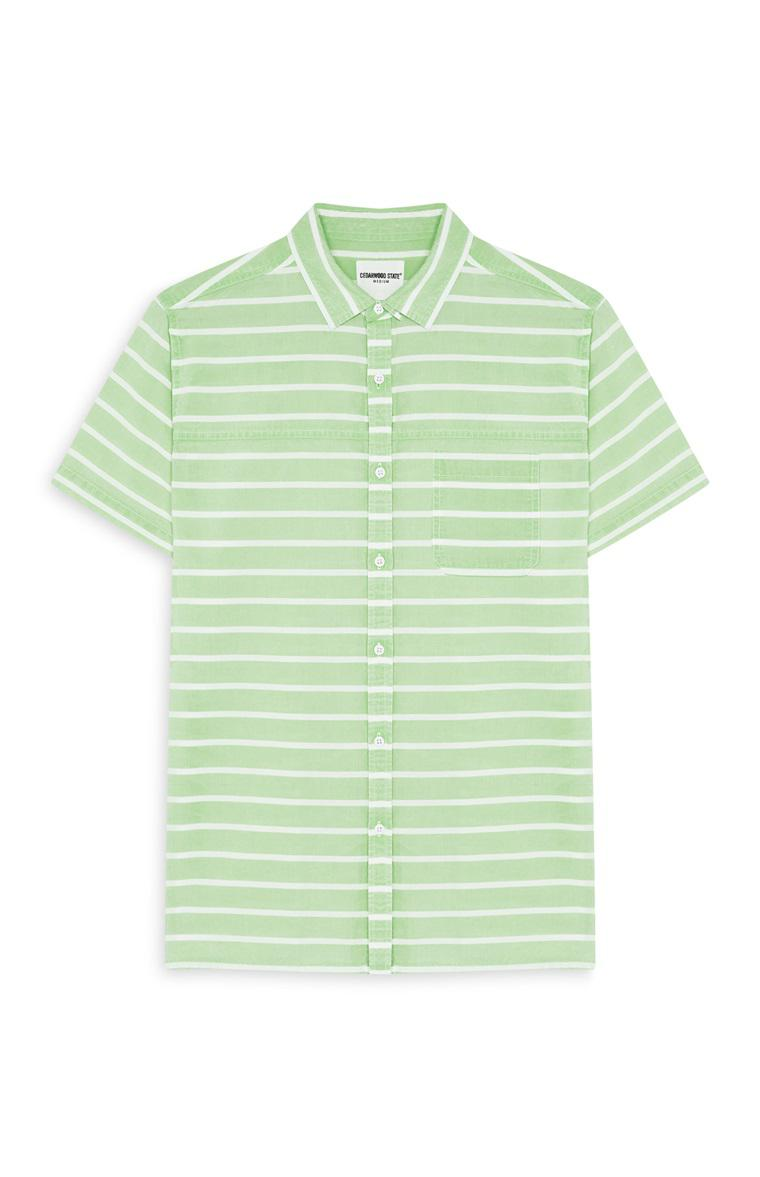teeshirt: (45, 195, 714, 993)
